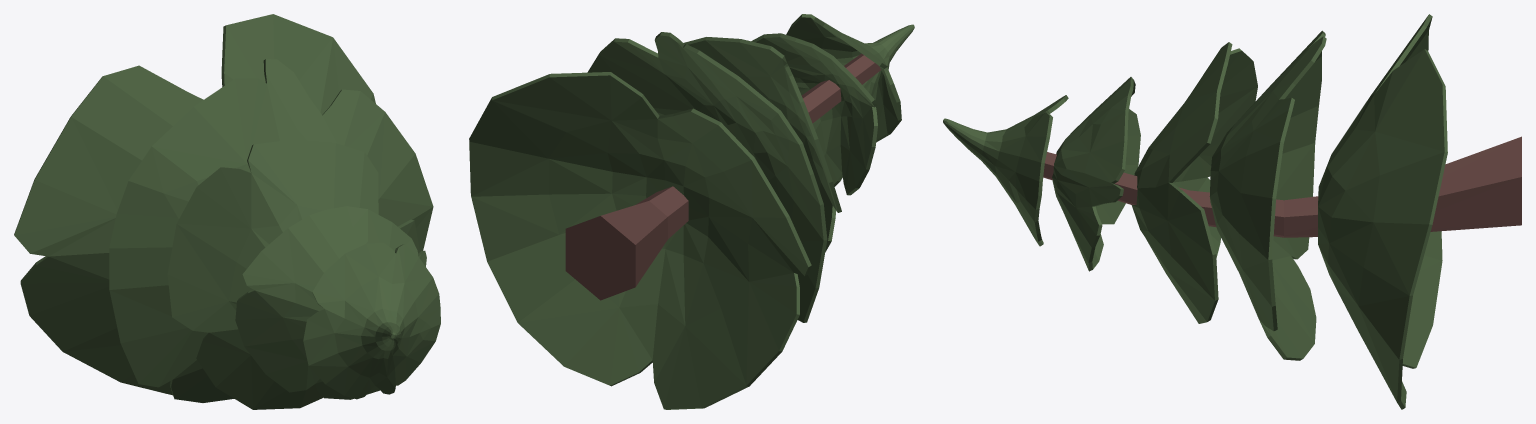
File: tree-pine-1-45-ft.obj
3 views of the same model, side by side, from view 1: azimuth 30°, elevation 25°; view 2: azimuth 150°, elevation 25°; view 3: azimuth 270°, elevation 25° (orthographic). The views are drawn at different scales.
Parts seen in each view (by area): view 1: tree-pine-1-45-ft; view 2: tree-pine-1-45-ft; view 3: tree-pine-1-45-ft.
Boxes of the visible parts, x1,y1,x2,y2 form: tree-pine-1-45-ft: [14, 14, 440, 409]; tree-pine-1-45-ft: [469, 14, 914, 409]; tree-pine-1-45-ft: [943, 14, 1521, 409].
Bounding box in the file's own units: 391 × 363 × 540.
